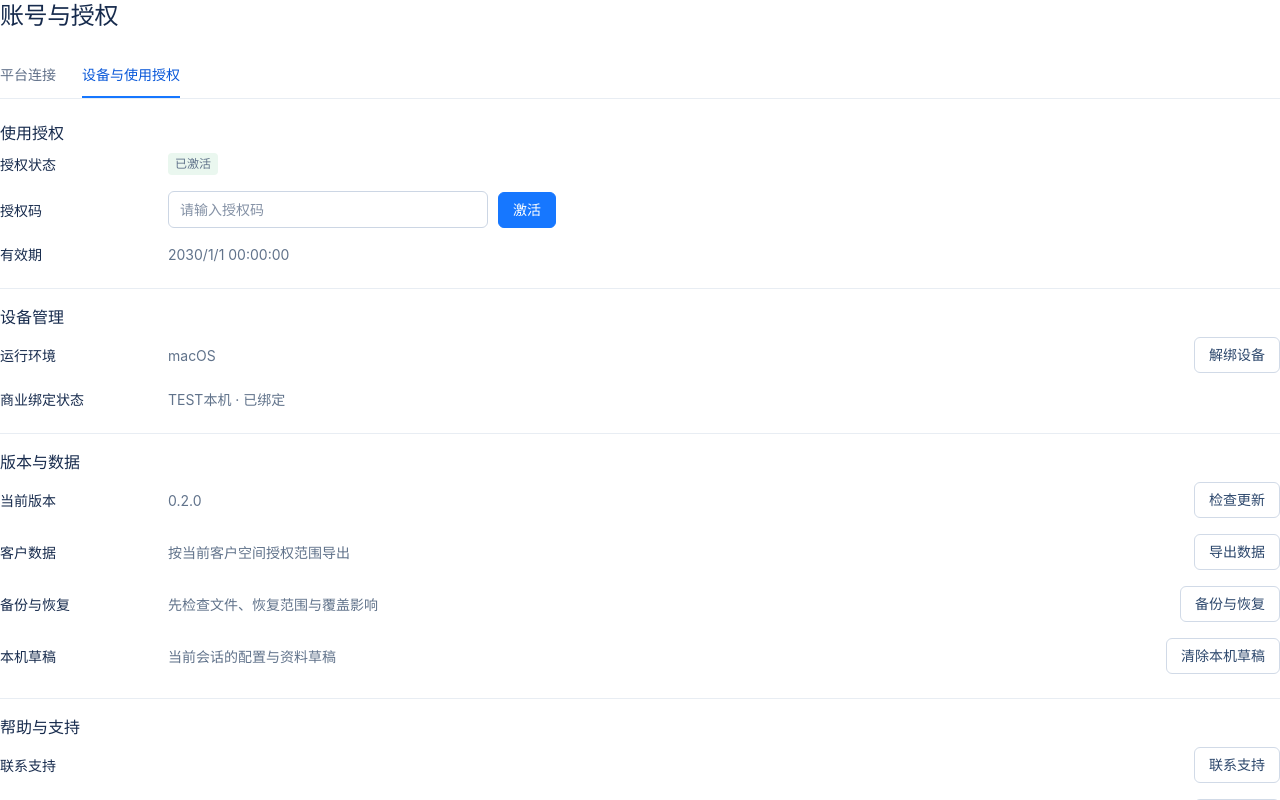
P18 available management contracts › keeps a timed-out management request locked until the original receipt is checked
Click the button "解绑设备". click: (1237, 355)
box: [1194, 337, 1279, 373]
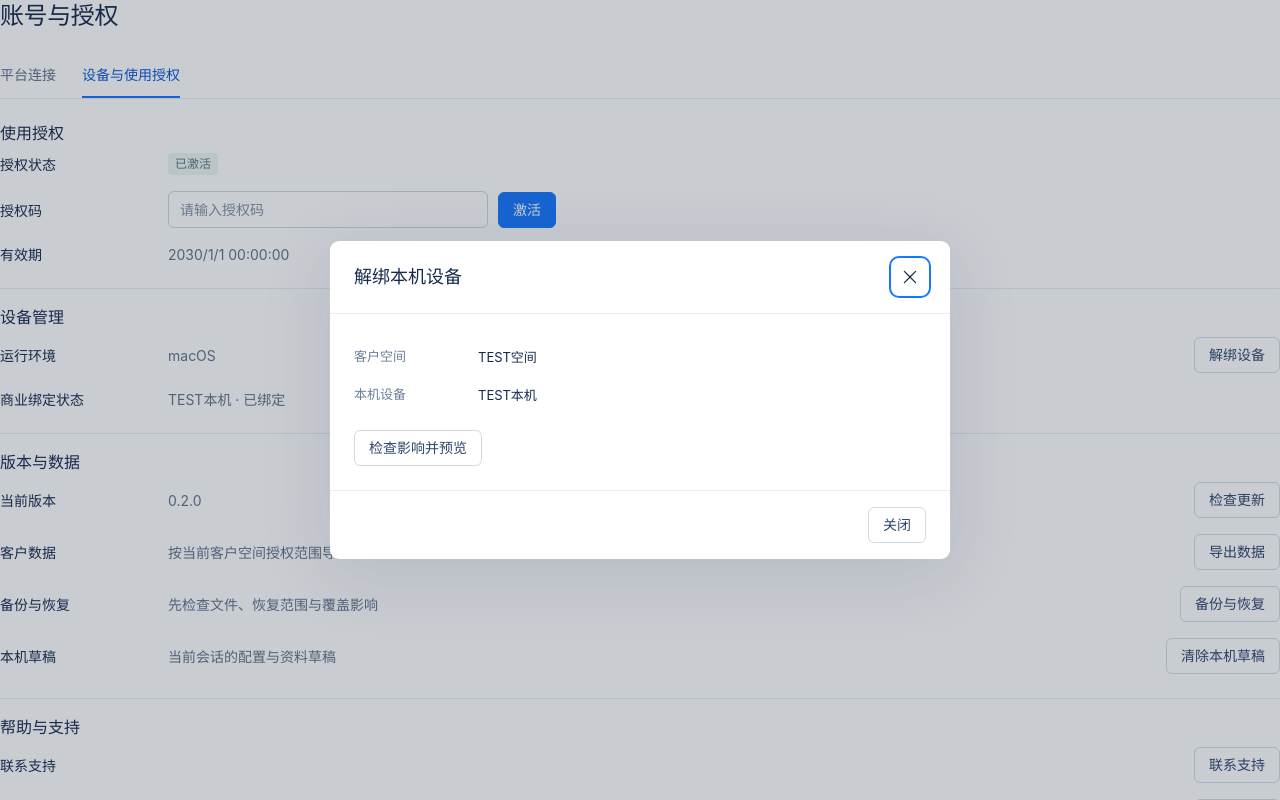
Click the button "检查影响并预览". click: (418, 448)
box: [354, 430, 482, 466]
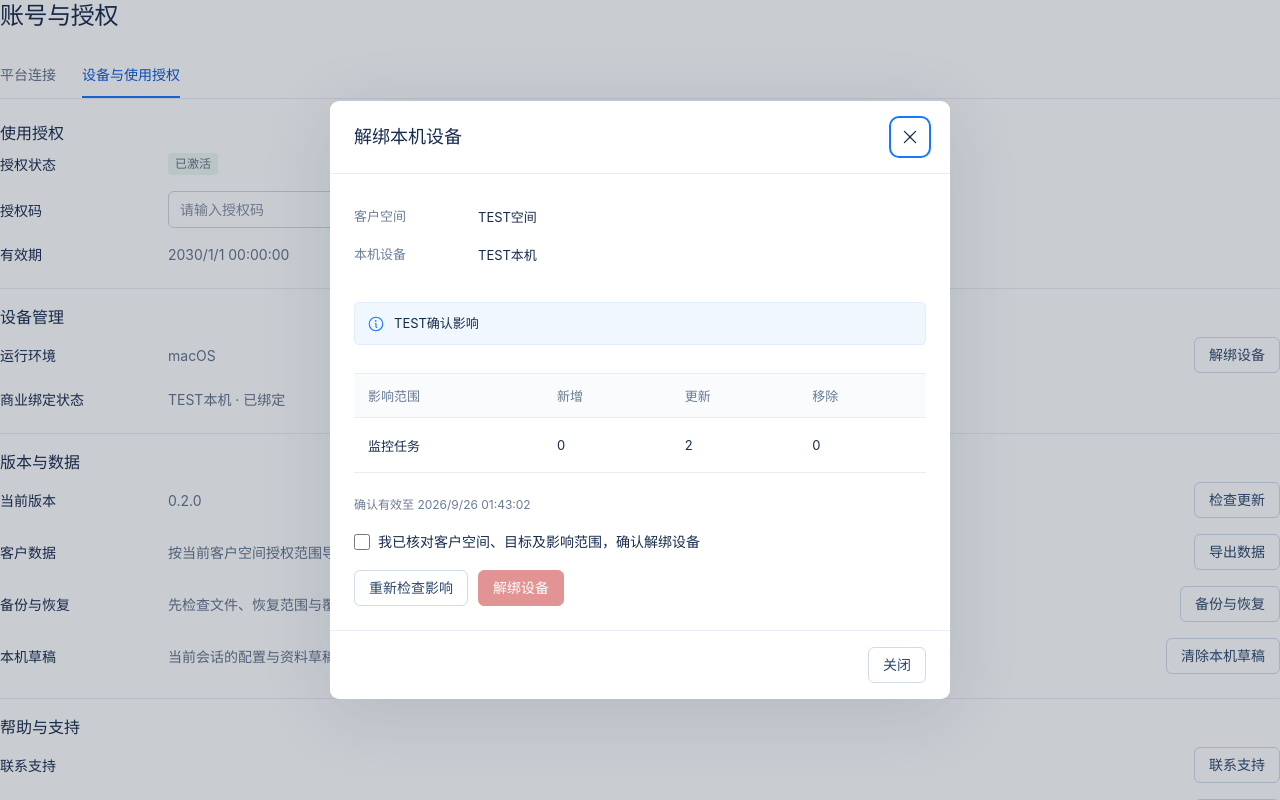
Check: the text "TEST确认影响" is shown, box [394, 315, 479, 331]
Click the checkbox. click: (362, 542)
box: [354, 534, 370, 550]
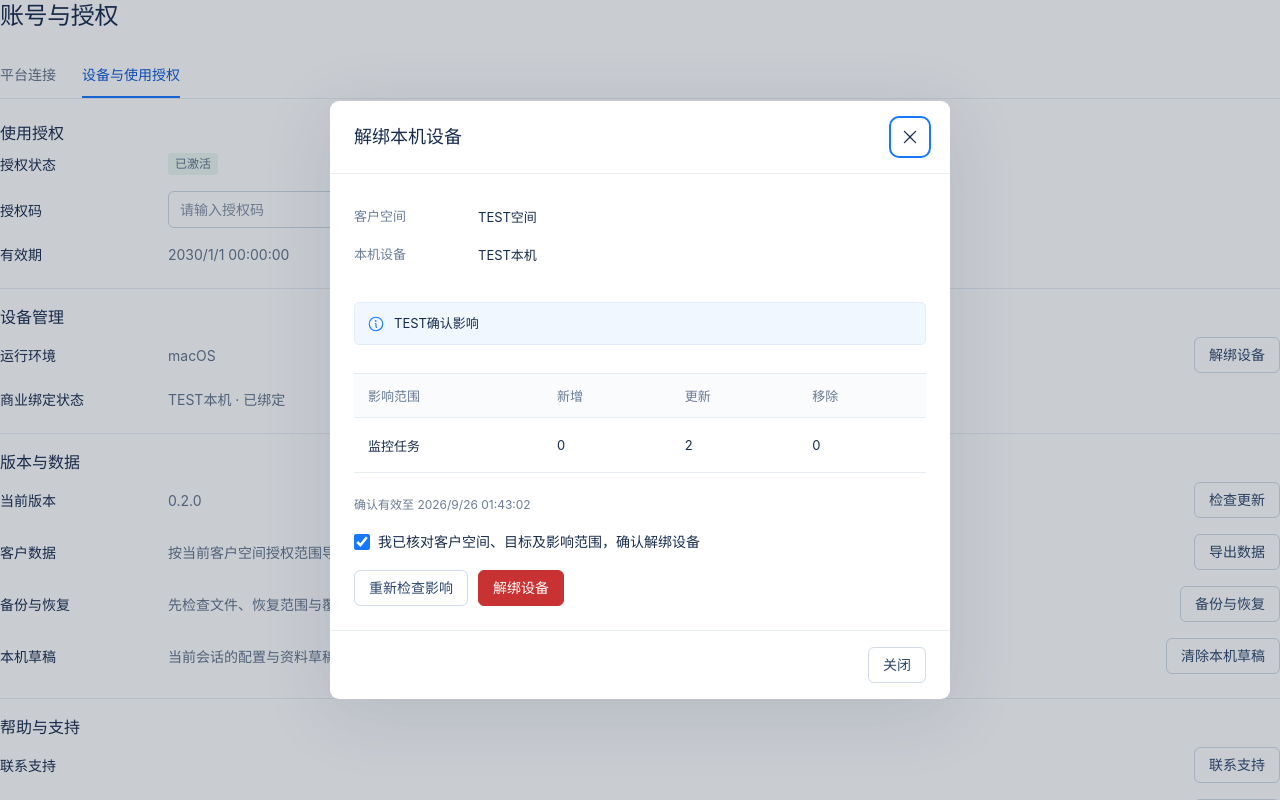
Click the button "解绑设备". click: (521, 588)
box: [478, 570, 564, 606]
Wait 30001 ms
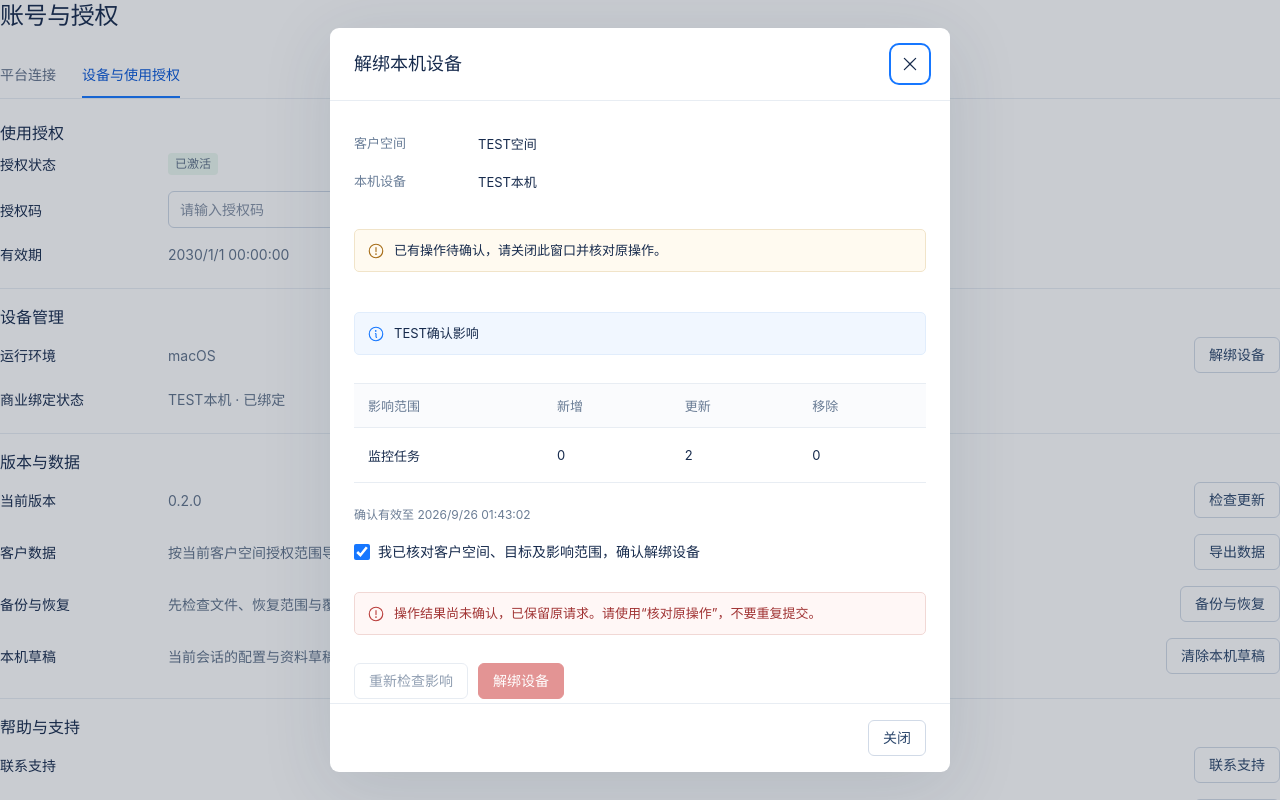
Check: the text "操作结果尚未确认，已保留原请求。请使用“核对原操作”，不要重复提交。" is shown, box [394, 605, 822, 621]
Check: the button "解绑设备" is disabled, box [478, 663, 564, 699]
